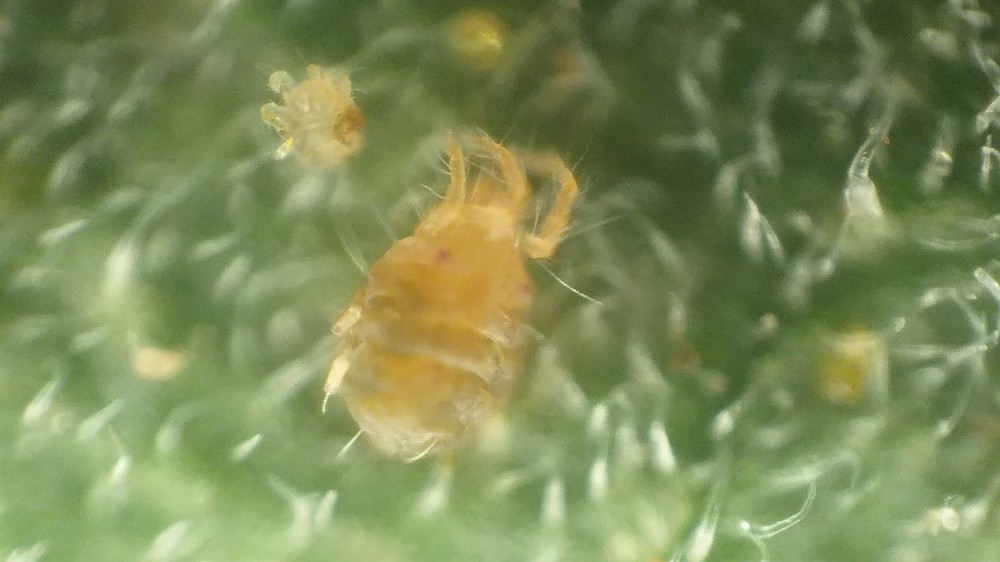Aracnido Rojo: (329, 119, 603, 510), (255, 58, 377, 177)
